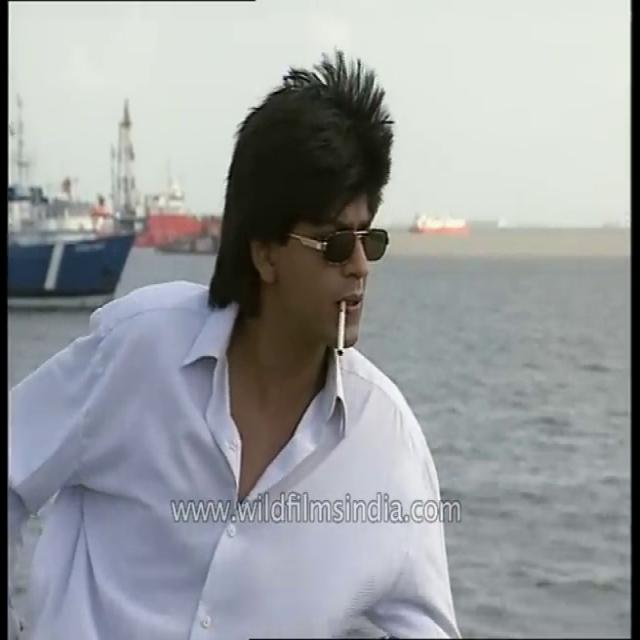Smooking: (332, 295, 350, 365)
